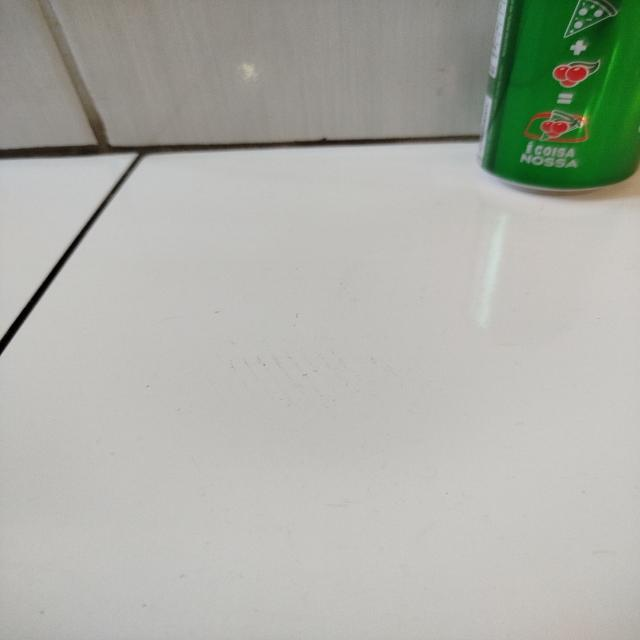Guarana: (479, 1, 636, 193)
